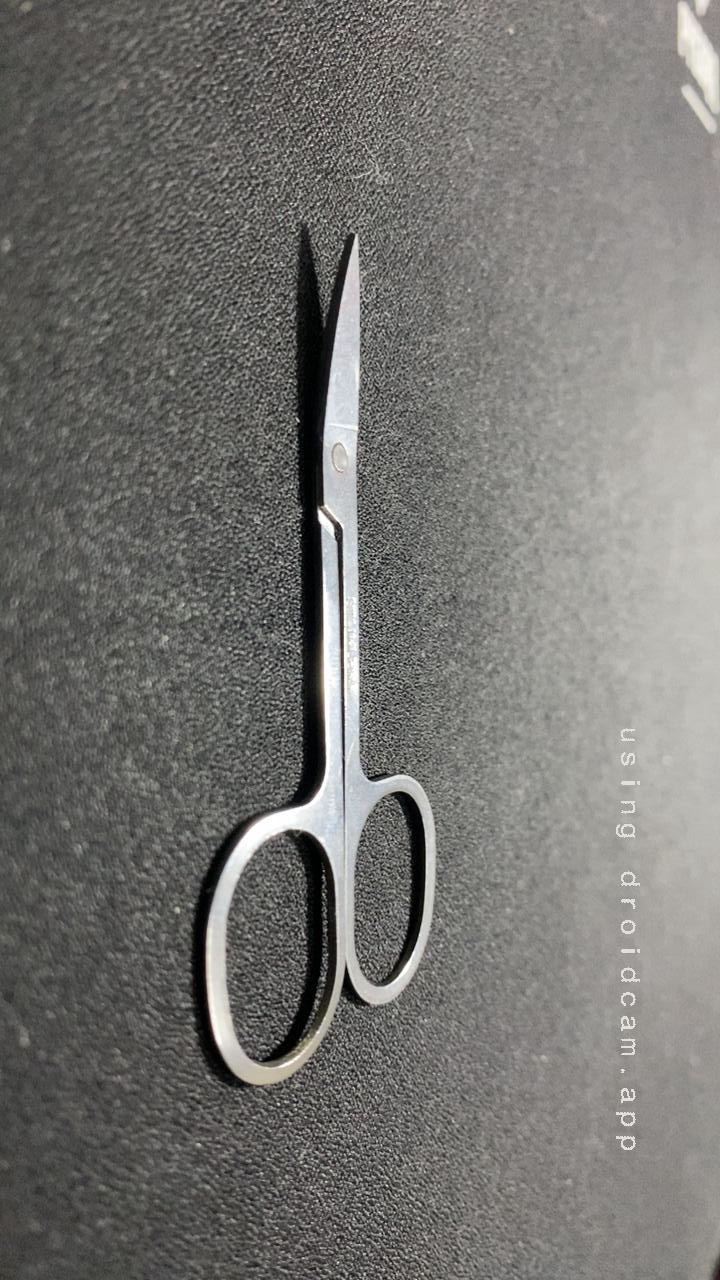scissor: (129, 561, 477, 1093)
